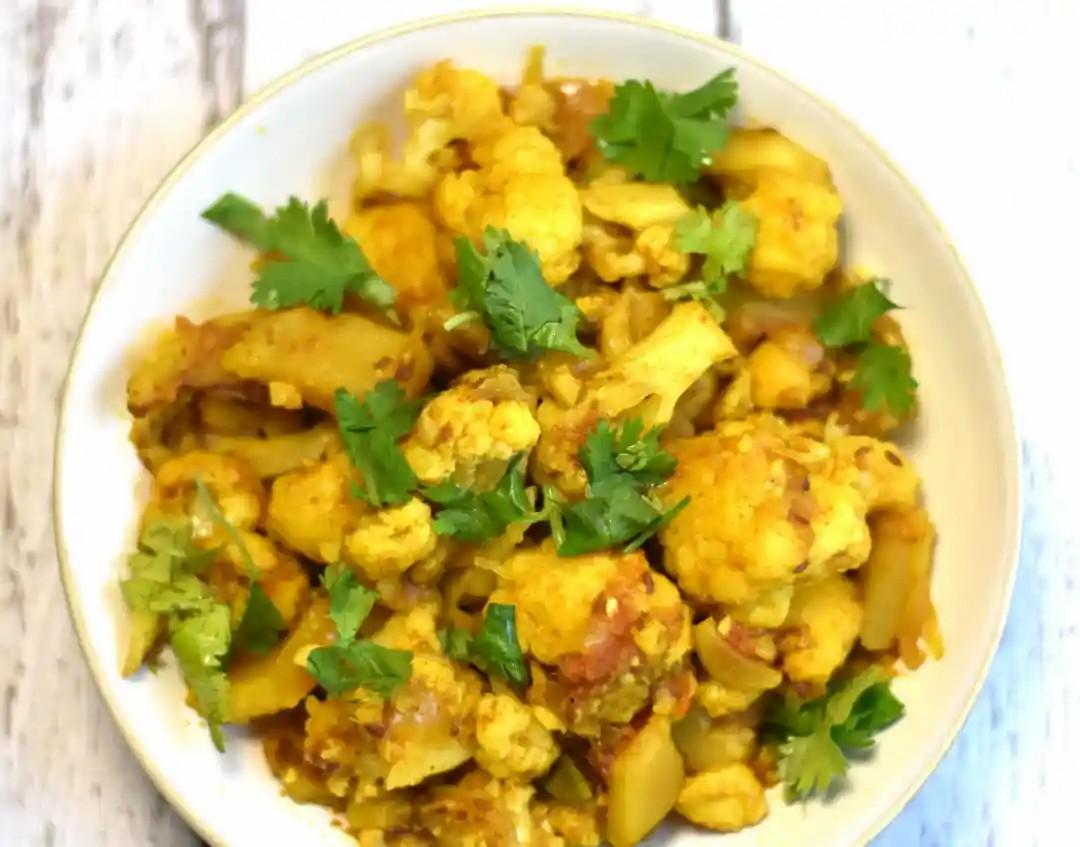AlooGobi: (124, 42, 942, 847)
